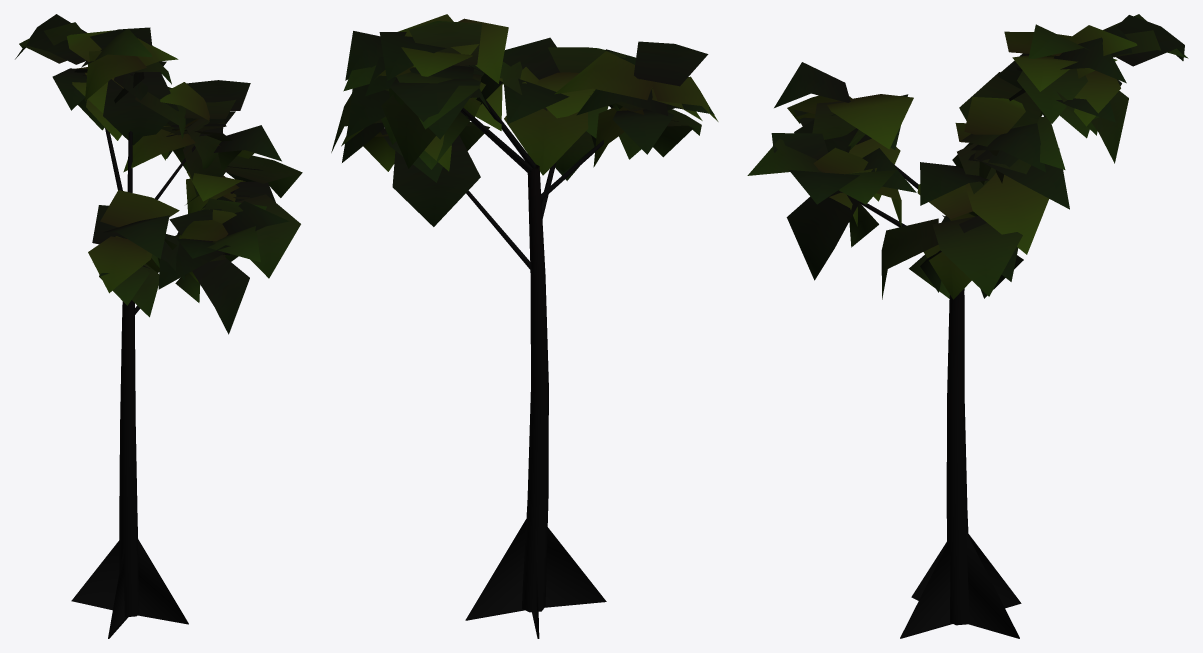
File: patch_thicket_far.glb
3 views of the same model, side by side, from view 1: azimuth 30°, elevation 25°; view 2: azimuth 150°, elevation 25°; view 3: azimuth 270°, elevation 25° (orthographic). The views are drawn at different scales.
Visible parts, largest first — view 1: patch_thicket_far; view 2: patch_thicket_far; view 3: patch_thicket_far.
Part boxes in pixels (x1=…): patch_thicket_far: x1=15, y1=14, x2=302, y2=638; patch_thicket_far: x1=331, y1=14, x2=718, y2=638; patch_thicket_far: x1=747, y1=14, x2=1188, y2=638.
Bounding box in the file's own units: 5.61 × 11.06 × 7.31.
Materials: 1 (1 with a texture image).
